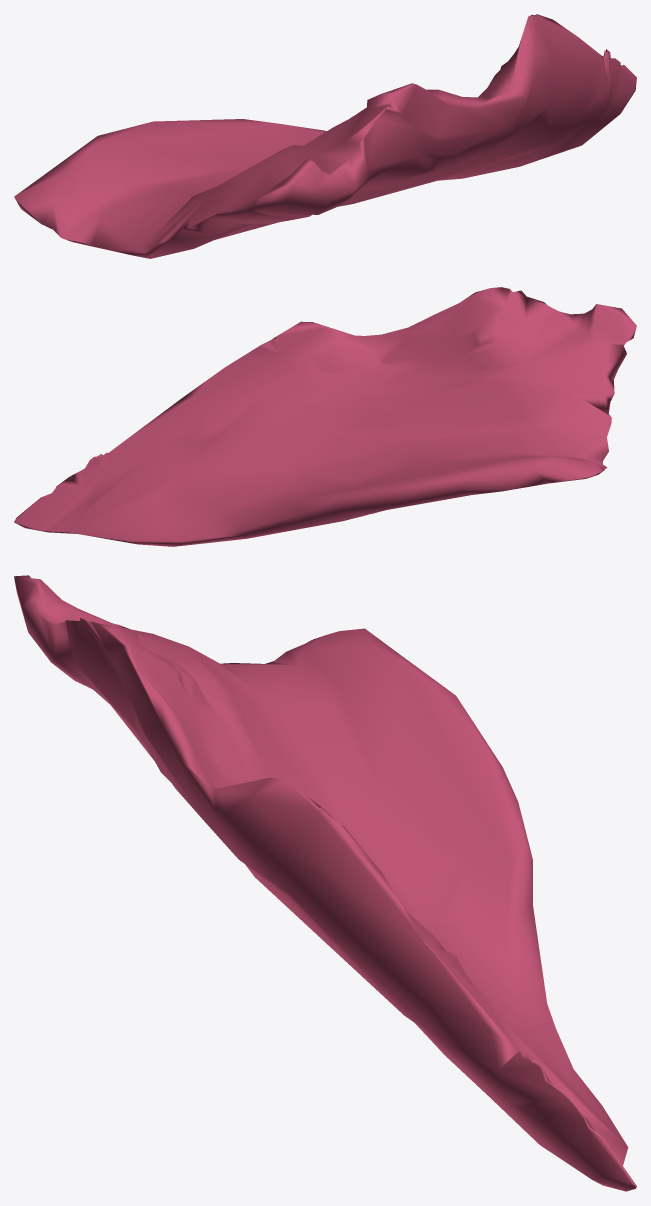
The picture shows the model from 3 angles, top to bottom: view 1: azimuth 30°, elevation 25°; view 2: azimuth 150°, elevation 25°; view 3: azimuth 270°, elevation 25°; orthographic projection. The views are drawn at different scales.
Visible parts, largest first — view 1: 左侧拇短屈肌深头; view 2: 左侧拇短屈肌深头; view 3: 左侧拇短屈肌深头.
Part boxes in pixels (x1=…): 左侧拇短屈肌深头: x1=14, y1=14, x2=636, y2=258; 左侧拇短屈肌深头: x1=14, y1=287, x2=636, y2=546; 左侧拇短屈肌深头: x1=14, y1=575, x2=636, y2=1191.
Bounding box in the file's own units: 0.0727 × 0.0286 × 0.049.
